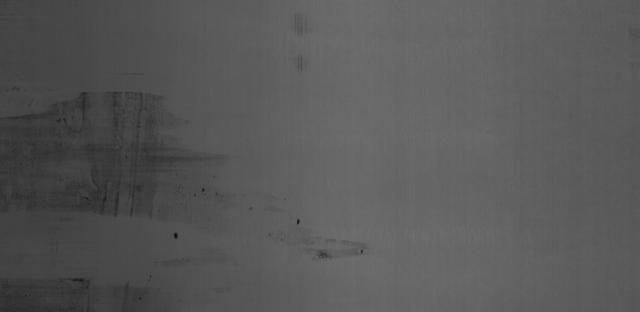inclusion: (24, 87, 164, 214), (13, 279, 134, 310), (163, 223, 190, 247), (182, 184, 213, 200), (285, 214, 308, 233), (316, 242, 332, 265), (350, 242, 370, 260)
